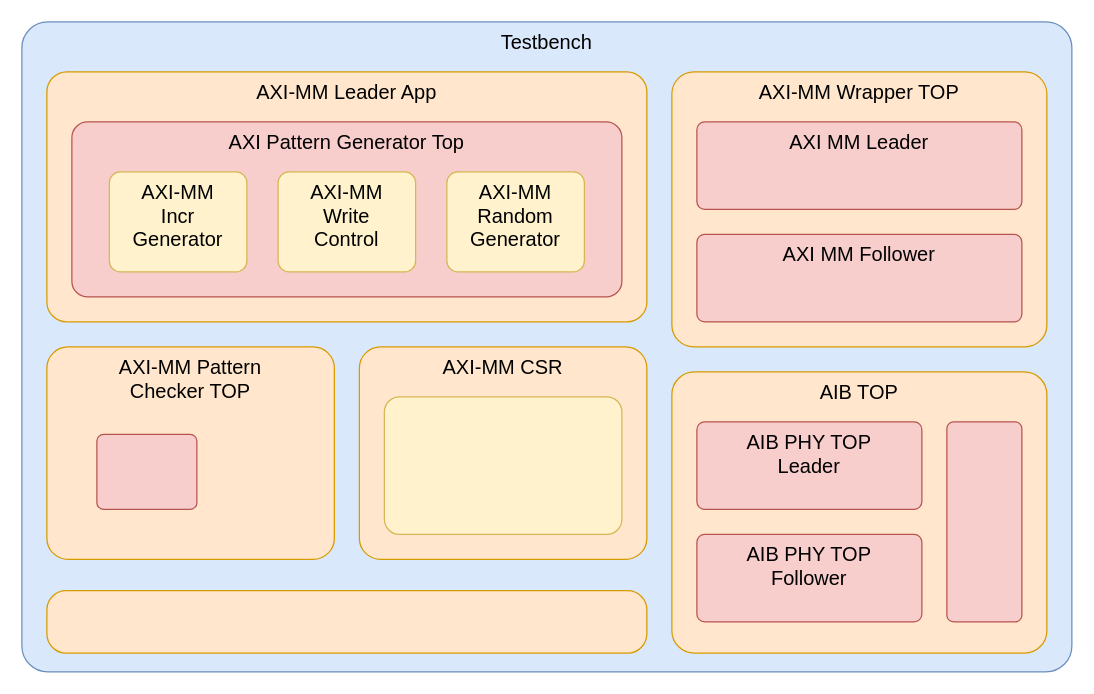
This 1094x694 diagram has some shape labels left out. Here are the shapes that lost their labels. From the top down, the centre of each, then its label:
(x=146, y=471): async FIFO
(x=502, y=465): MM CSR Control
(x=984, y=521): EMIB
(x=346, y=621): AXI-MM Follower App
